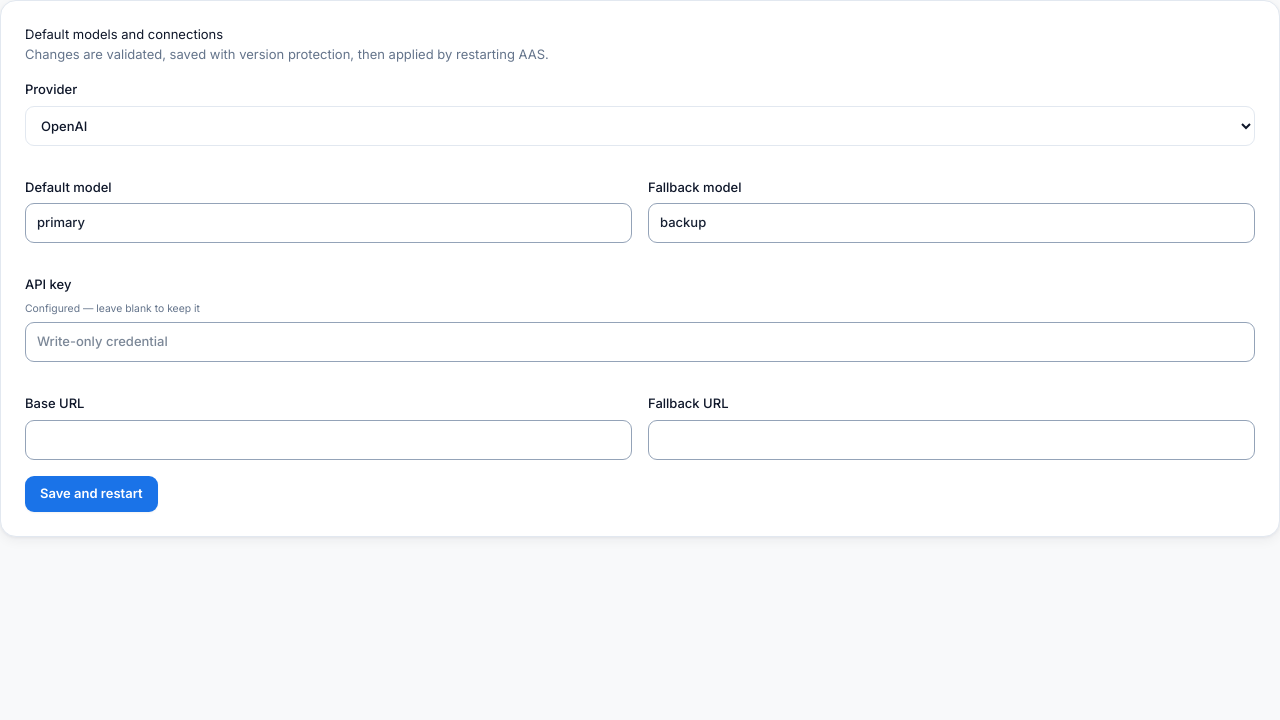
Test: P2 Settings migration › validates and confirms Models, then reconnects without replaying the mutation
Expected: the password field labelled "API key Configured — leave blank to keep it" is empty, x1=25 y1=322 x2=1255 y2=362
Step 1. Clear the field labelled "Default model" → (328, 223), box x1=25 y1=203 x2=632 y2=243
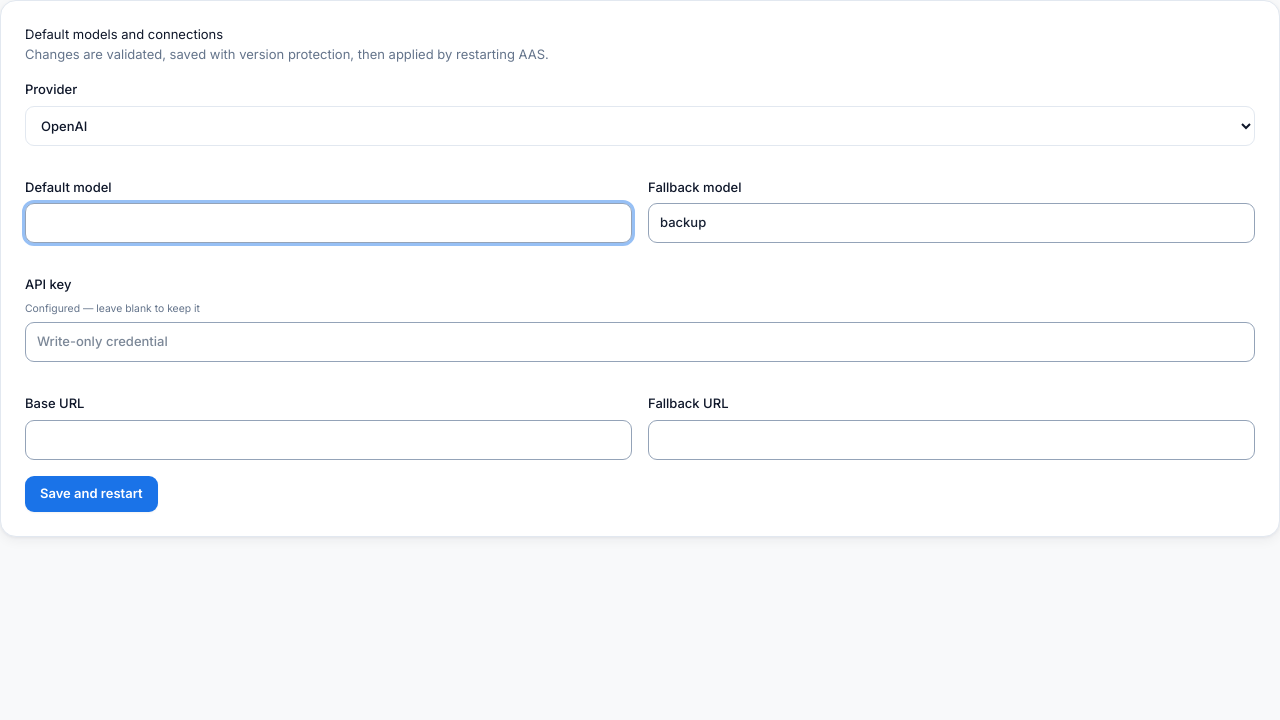
Step 2. Click the button "Save and restart" → (91, 494), box x1=25 y1=476 x2=158 y2=512
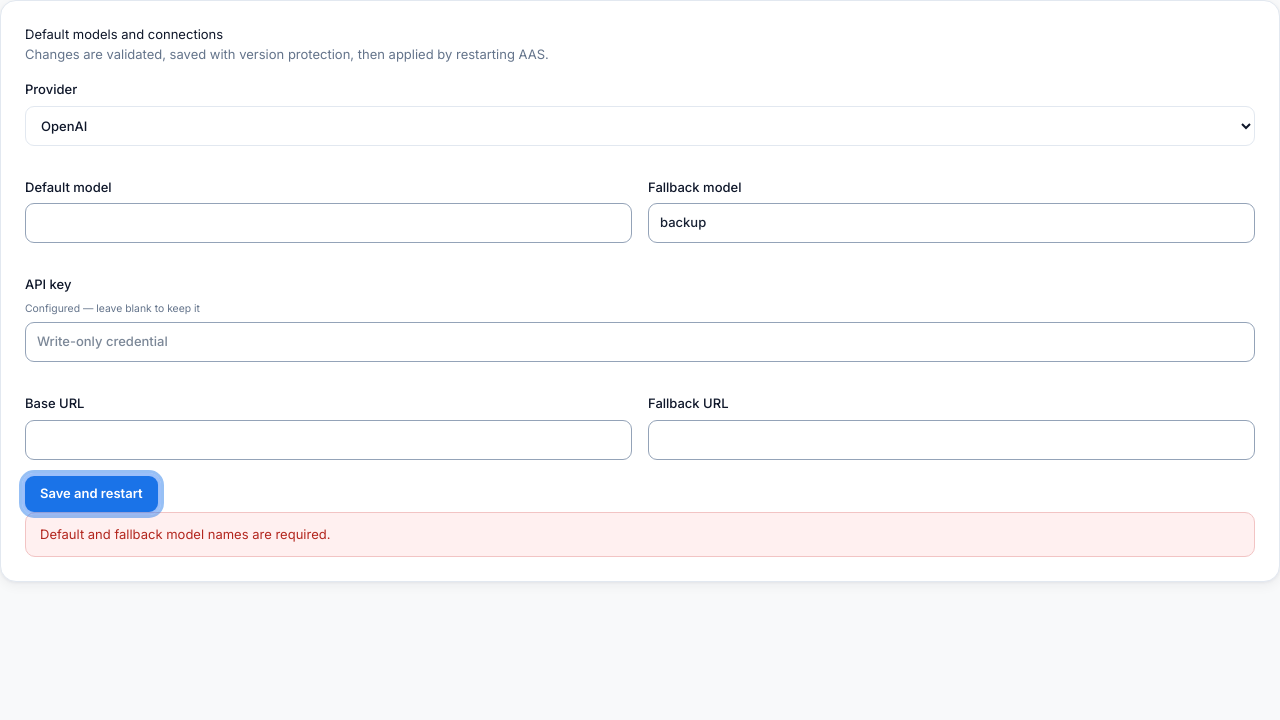
Result: the message shows "required" at x1=40 y1=526 x2=330 y2=542
Step 3. Type "new-model" into the field labelled "Default model" → (328, 223), box x1=25 y1=203 x2=632 y2=243
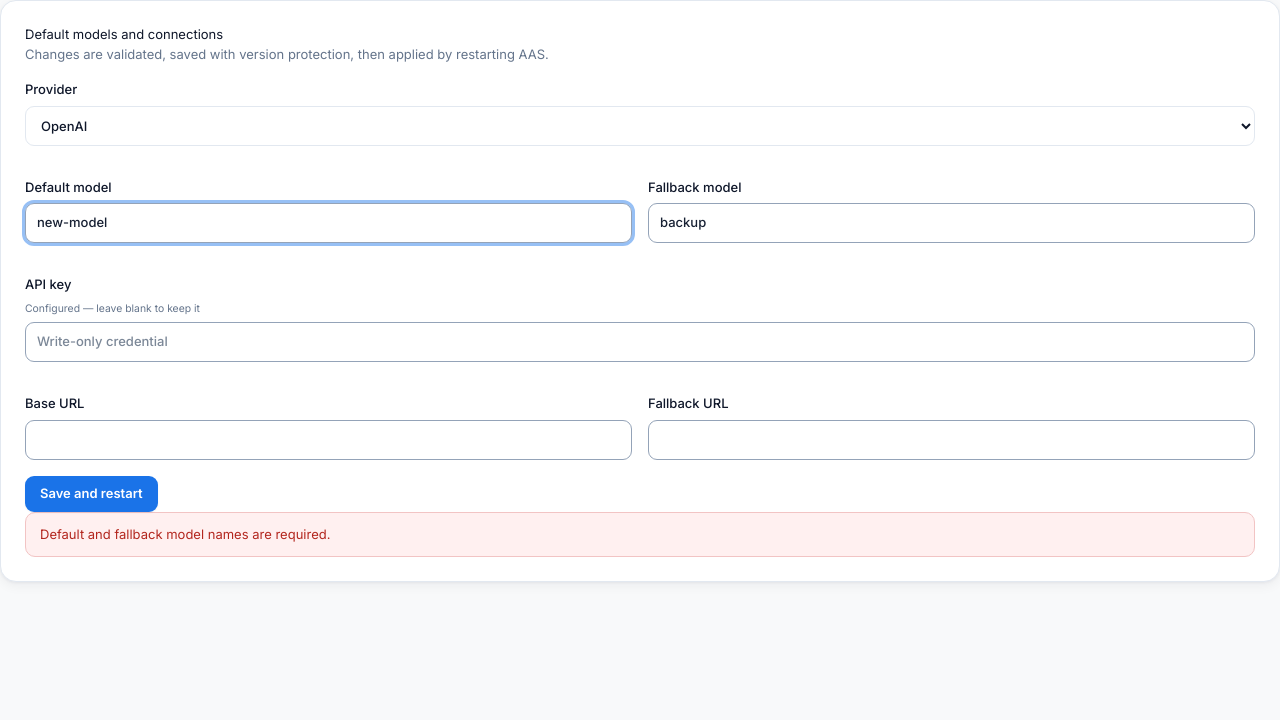
Step 4. Click the button "Save and restart" → (91, 494), box x1=25 y1=476 x2=158 y2=512
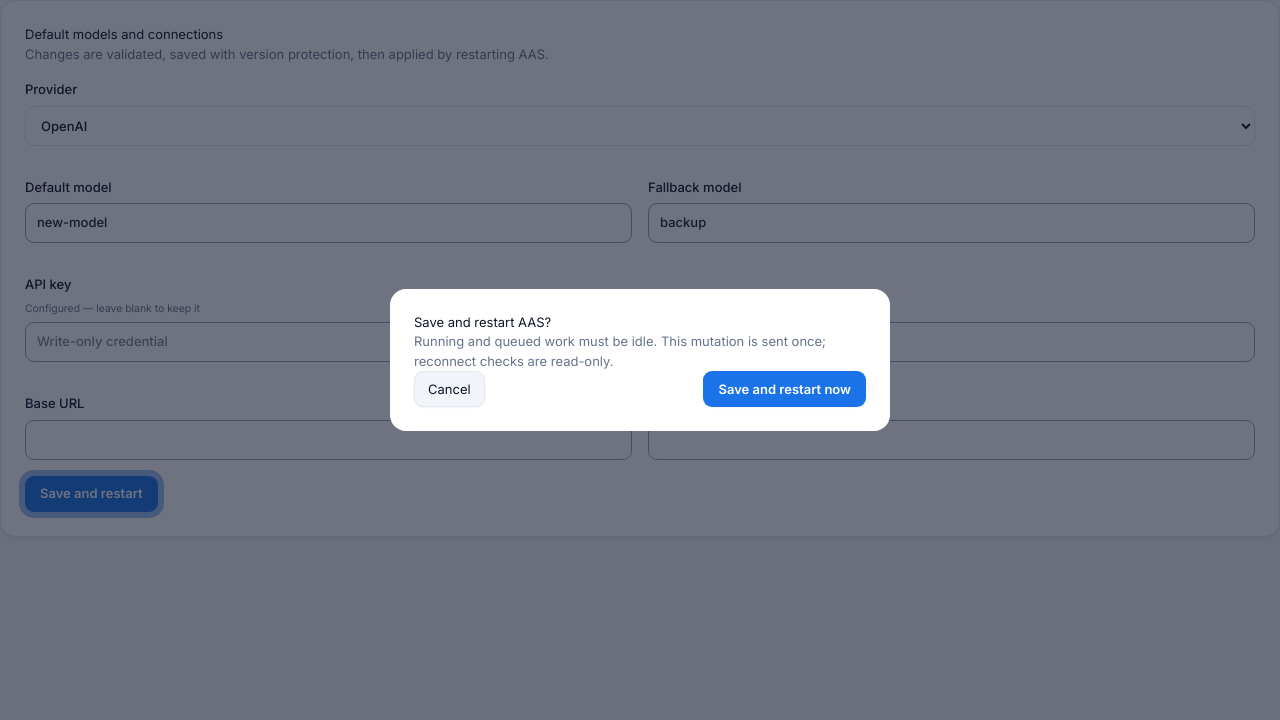
Result: the dialog is shown at x1=390 y1=289 x2=890 y2=431
Step 5. Click the button "Save and restart now" → (785, 389), box x1=704 y1=371 x2=866 y2=407
Wait 2500 ms
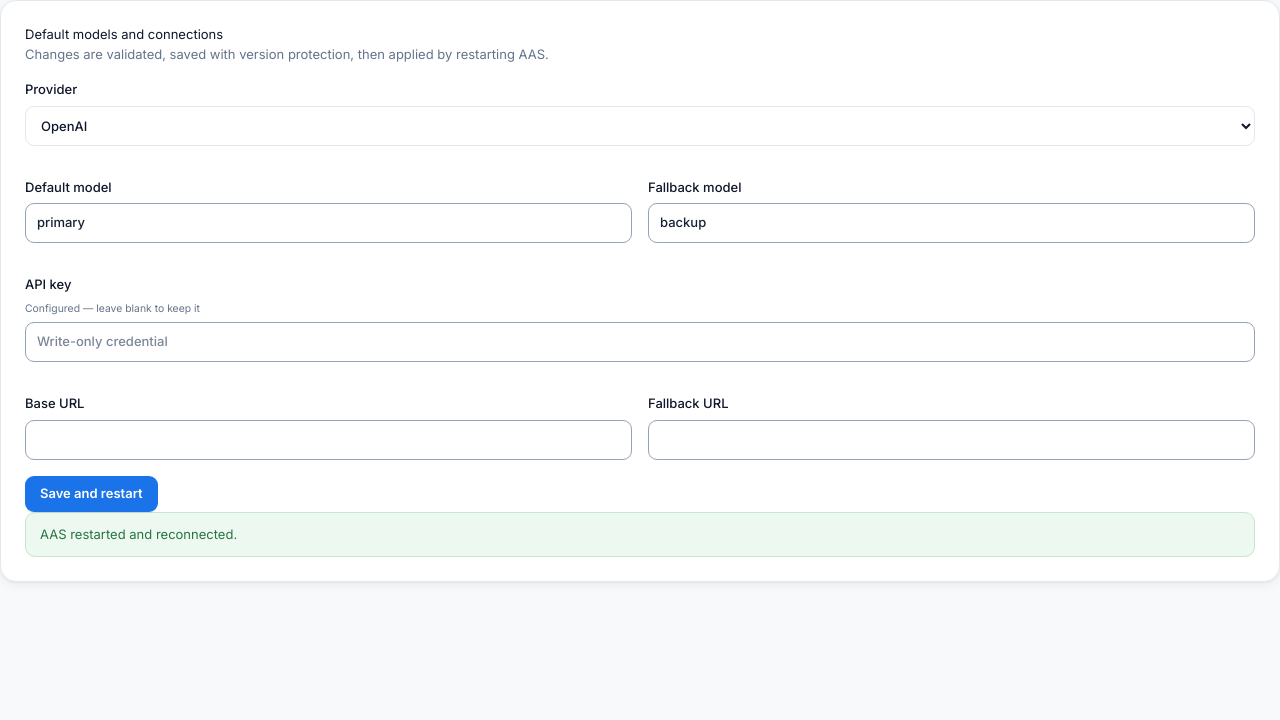
Result: the text "AAS restarted and reconnected." is shown at x1=25 y1=512 x2=1255 y2=557
